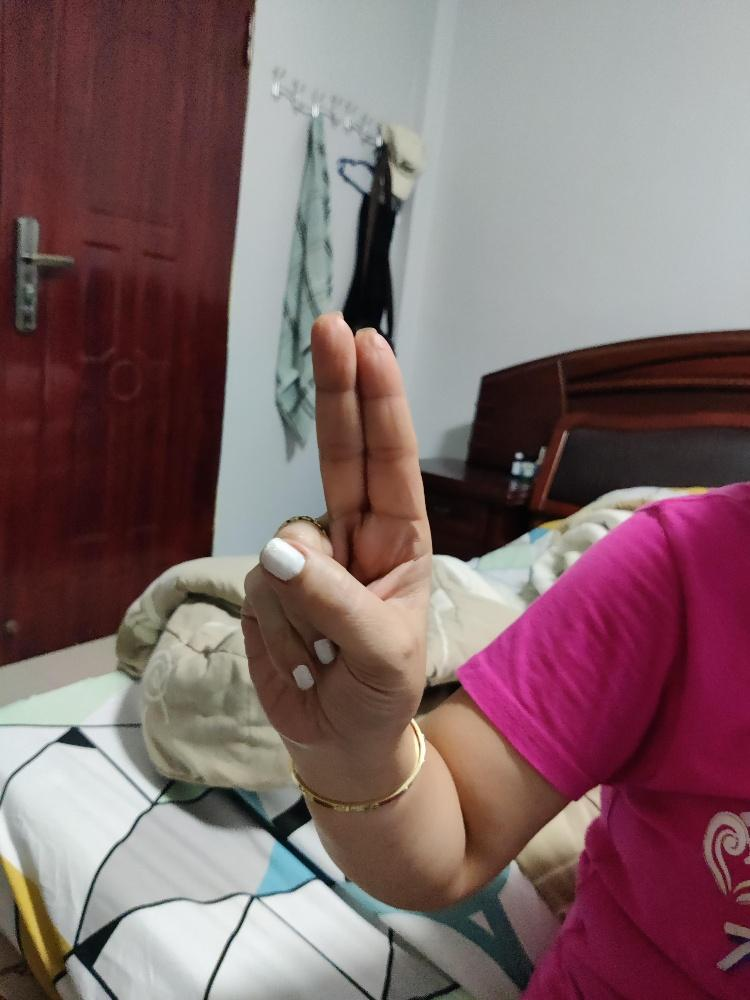u: (239, 310, 435, 745)
